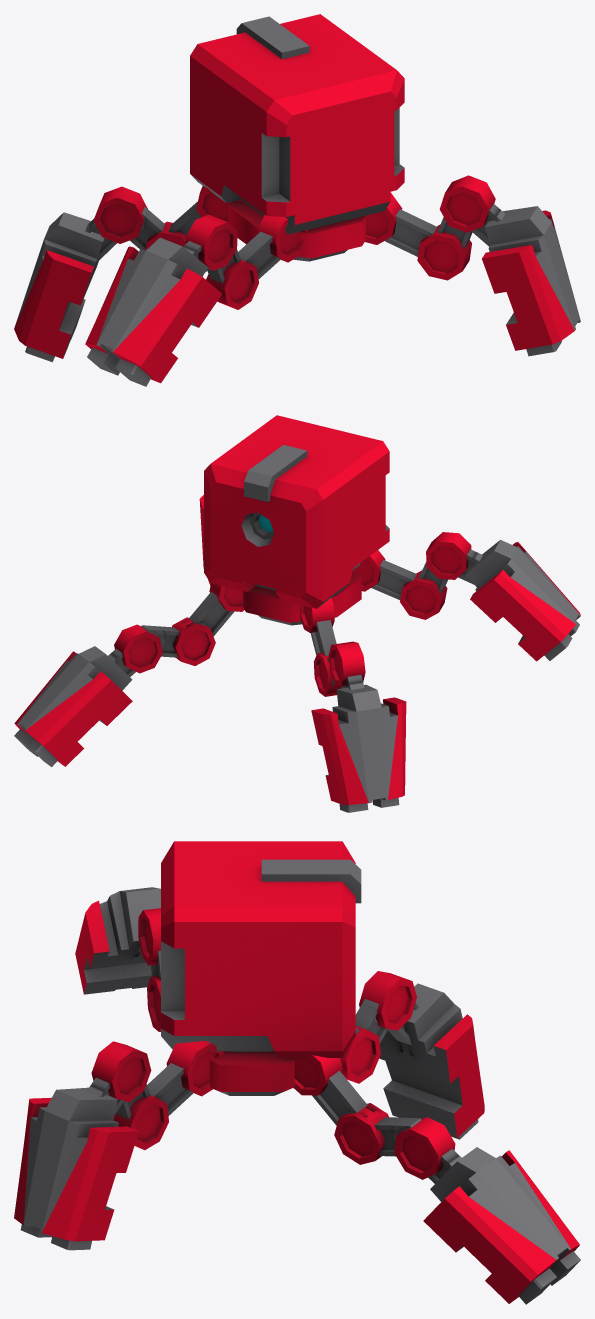
The model's file is Monster1_Move19.obj.
3 views of the same model, one above another, from view 1: azimuth 30°, elevation 25°; view 2: azimuth 150°, elevation 25°; view 3: azimuth 270°, elevation 25° (orthographic). The views are drawn at different scales.
Parts seen in each view (by area): view 1: Box006, Object021, Object017, Object025, Object020, Object028, Object019, Object022, Object018, Object024, Object023, Object026 (+1 smaller); view 2: Box006, Object025, Object013, Object021, Object015, Object024, Object016, Object023, Object022, Object014, Object028, Object026 (+1 smaller); view 3: Box006, Object017, Object013, Object025, Object021, Object015, Object018, Object014, Object016, Object020, Object028, Object027 (+3 smaller).
Part boxes in pixels (x1,y1,x2,y2): Box006: [190, 14, 404, 261]; Object021: [85, 237, 222, 386]; Object017: [482, 206, 580, 356]; Object025: [14, 212, 104, 362]; Object020: [439, 175, 505, 246]; Object028: [85, 186, 147, 262]; Object019: [417, 217, 472, 280]; Object022: [238, 215, 308, 278]; Object018: [365, 193, 437, 256]; Object024: [183, 214, 237, 272]; Object023: [206, 249, 258, 309]; Object026: [168, 186, 242, 235]; Box006: [204, 415, 389, 625]; Object025: [311, 684, 406, 812]; Object013: [14, 646, 132, 766]; Object021: [465, 540, 580, 661]; Object015: [141, 617, 215, 665]; Object024: [426, 532, 482, 584]; Object016: [108, 624, 162, 676]; Object023: [400, 562, 448, 619]; Object022: [352, 550, 416, 599]; Object014: [189, 583, 244, 636]; Object028: [328, 641, 365, 689]; Object026: [300, 597, 336, 655]; Box006: [161, 841, 361, 1095]; Object017: [14, 1087, 138, 1250]; Object013: [423, 1147, 580, 1304]; Object025: [379, 983, 484, 1139]; Object021: [75, 887, 160, 994]; Object015: [334, 1103, 421, 1164]; Object018: [147, 1040, 223, 1115]; Object014: [288, 1055, 367, 1125]; Object016: [394, 1117, 461, 1183]; Object020: [86, 1041, 151, 1114]; Object028: [359, 971, 419, 1044]; Object027: [340, 999, 388, 1083].
Size of the model in its own units: 177 by 117 by 172.
